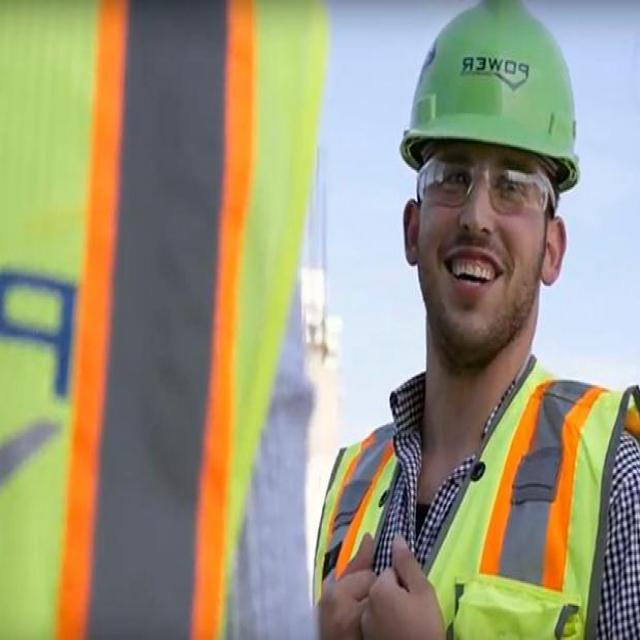Reflective-Jacket: (0, 0, 352, 638), (309, 365, 640, 637)
Safety-Helmet: (394, 2, 586, 187)
